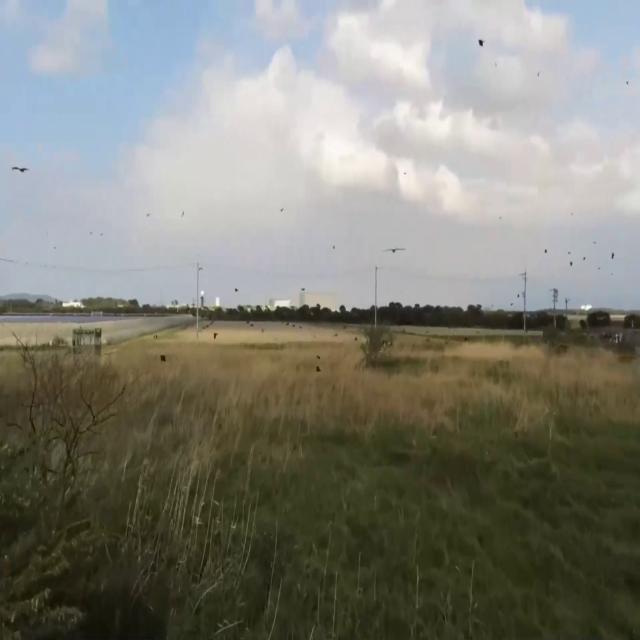bird: (11, 152, 29, 184), (387, 238, 403, 262)
